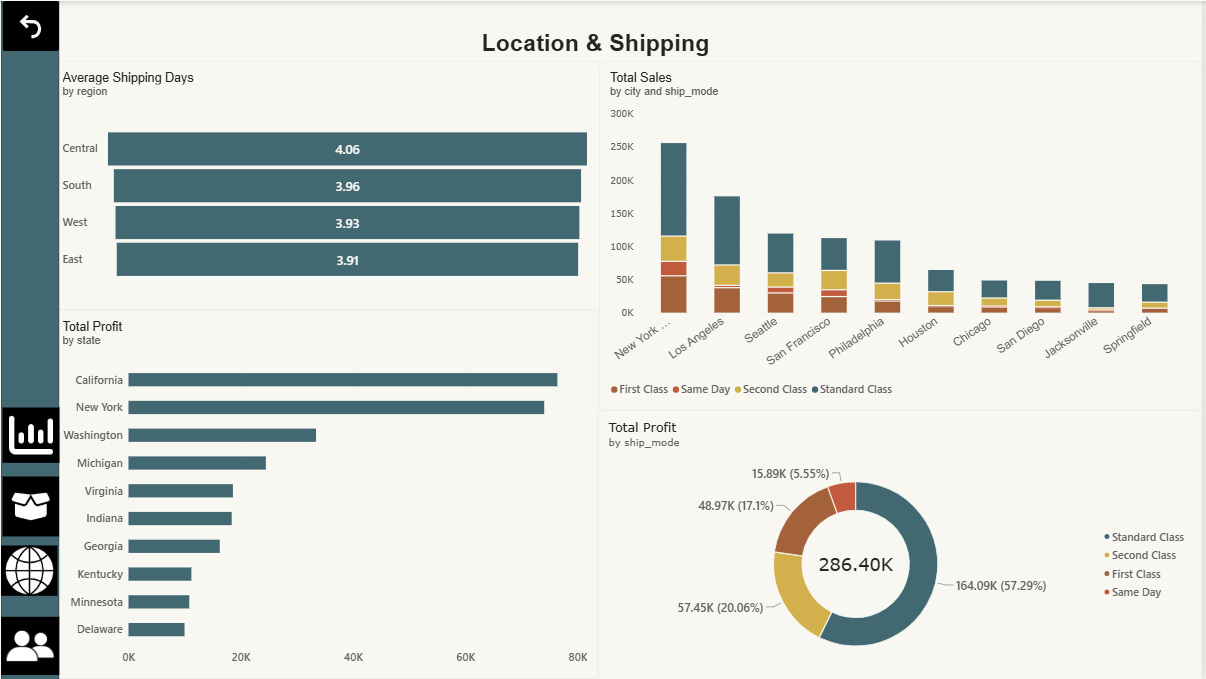

The dashboard page shown, as its layout file describes it:
{"tool":"powerbi","page":{"name":"Operations","canvas":[1920,1080],"ordinal":3},"visuals":[{"type":"textbox","box":[0,45.3,1920.7,83.5],"z":0},{"type":"donutChart","fields":{"Category":["fact_orders.ship_mode"],"Y":["_Measures.Total_Profit"]},"box":[959.1,651.4,959.1,429.5],"z":1000},{"type":"barChart","fields":{"Category":["dim_Location.region","dim_Location.state"],"Y":["_Measures.Total_Profit"]},"box":[90.7,491.5,868.5,586.9],"z":2000},{"type":"funnel","fields":{"Category":["dim_Location.region"],"Y":["_Measures.Average Shipping Days"]},"box":[90.7,95.4,873.2,396.1],"z":3000},{"type":"columnChart","fields":{"Category":["dim_Location.city"],"Series":["fact_orders.ship_mode"],"Y":["_Measures.Total_Sales"]},"box":[961.5,95.4,956.8,555.9],"z":4000},{"type":"shape","box":[10,0,92.5,1080],"z":5000},{"type":"image","box":[9.5,973.5,92.5,105],"z":6000},{"type":"image","box":[11.9,646.6,90.7,88.3],"z":7000},{"type":"image","box":[9.5,866.1,90,80],"z":8000},{"type":"image","box":[12.5,757.5,90,95],"z":9000},{"type":"actionButton","box":[12.5,0,90,80],"z":10000}]}

Visuals, with their boxes on the page's 1920x1080 design canvas (x1, y1, x2, y2). These are canvas units, not pixel positions in the 1206x679 screenshot, which may show the page scaled, cropped or inside an application window:
textbox: [x1=0, y1=45, x2=1921, y2=129]
donutChart - fact_orders.ship_mode x _Measures.Total_Profit: [x1=959, y1=651, x2=1918, y2=1081]
barChart - dim_Location.region x dim_Location.state: [x1=91, y1=492, x2=959, y2=1078]
funnel - dim_Location.region x _Measures.Average Shipping Days: [x1=91, y1=95, x2=964, y2=492]
columnChart - dim_Location.city x fact_orders.ship_mode: [x1=962, y1=95, x2=1918, y2=651]
shape: [x1=10, y1=0, x2=102, y2=1080]
image: [x1=10, y1=974, x2=102, y2=1078]
image: [x1=12, y1=647, x2=103, y2=735]
image: [x1=10, y1=866, x2=100, y2=946]
image: [x1=12, y1=758, x2=102, y2=852]
actionButton: [x1=12, y1=0, x2=102, y2=80]
